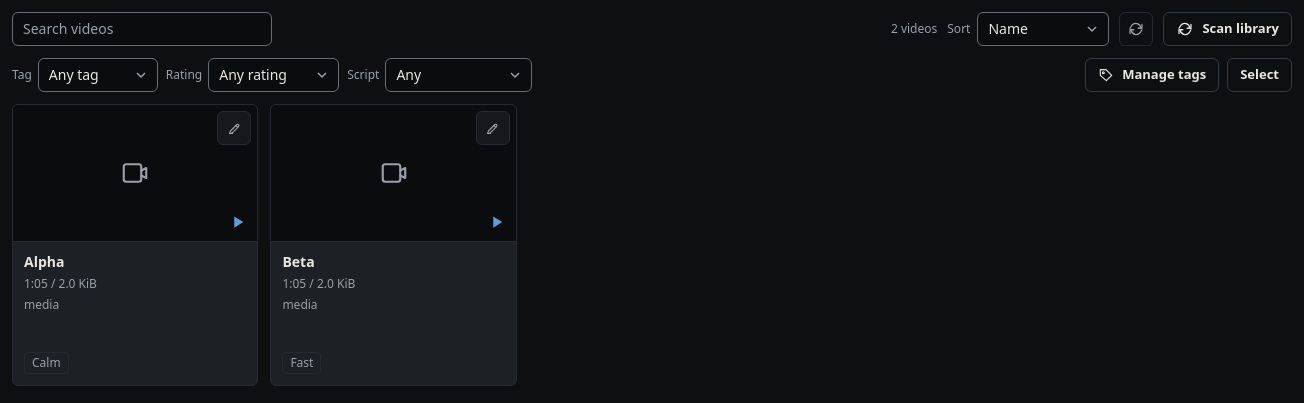
VideoLibrary curation › filters the grid by tag and clears the filter from its chip
Expected: the button with aria-label "Play Alpha" is shown, x1=13 y1=105 x2=257 y2=386
Select "Calm (1)" in the dropdown labelled "Tag" at (98, 75), box x1=38 y1=58 x2=158 y2=92
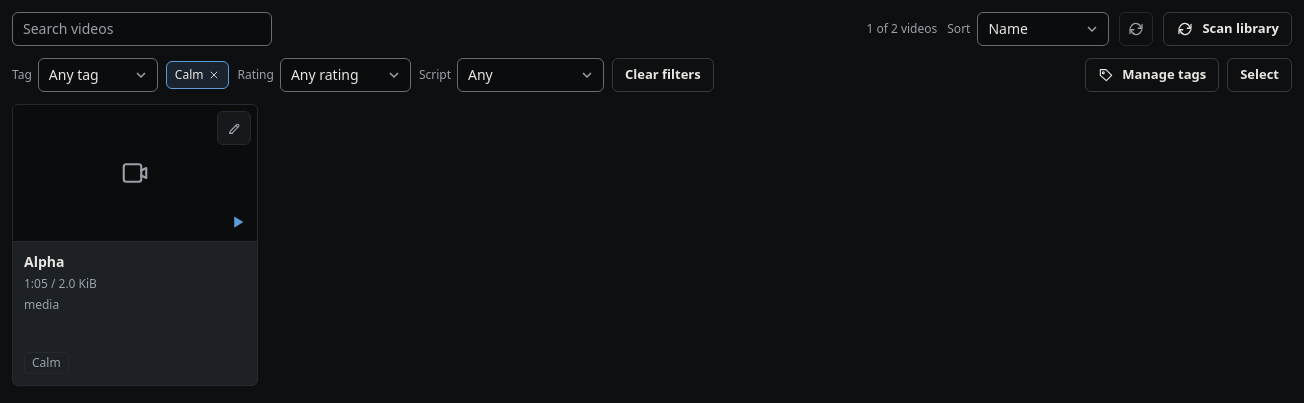
Result: the text "1 of 2 videos" is shown at x1=866 y1=20 x2=937 y2=38
Click the button with aria-label "Stop filtering by Calm" at (198, 75), box x1=166 y1=61 x2=229 y2=89
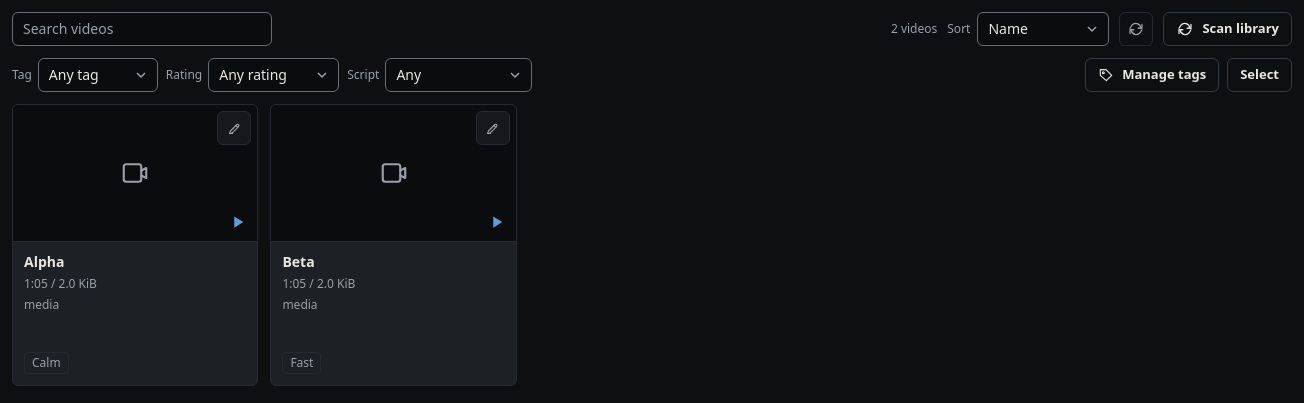
Result: the button with aria-label "Play Beta" is shown at x1=271 y1=105 x2=516 y2=386
